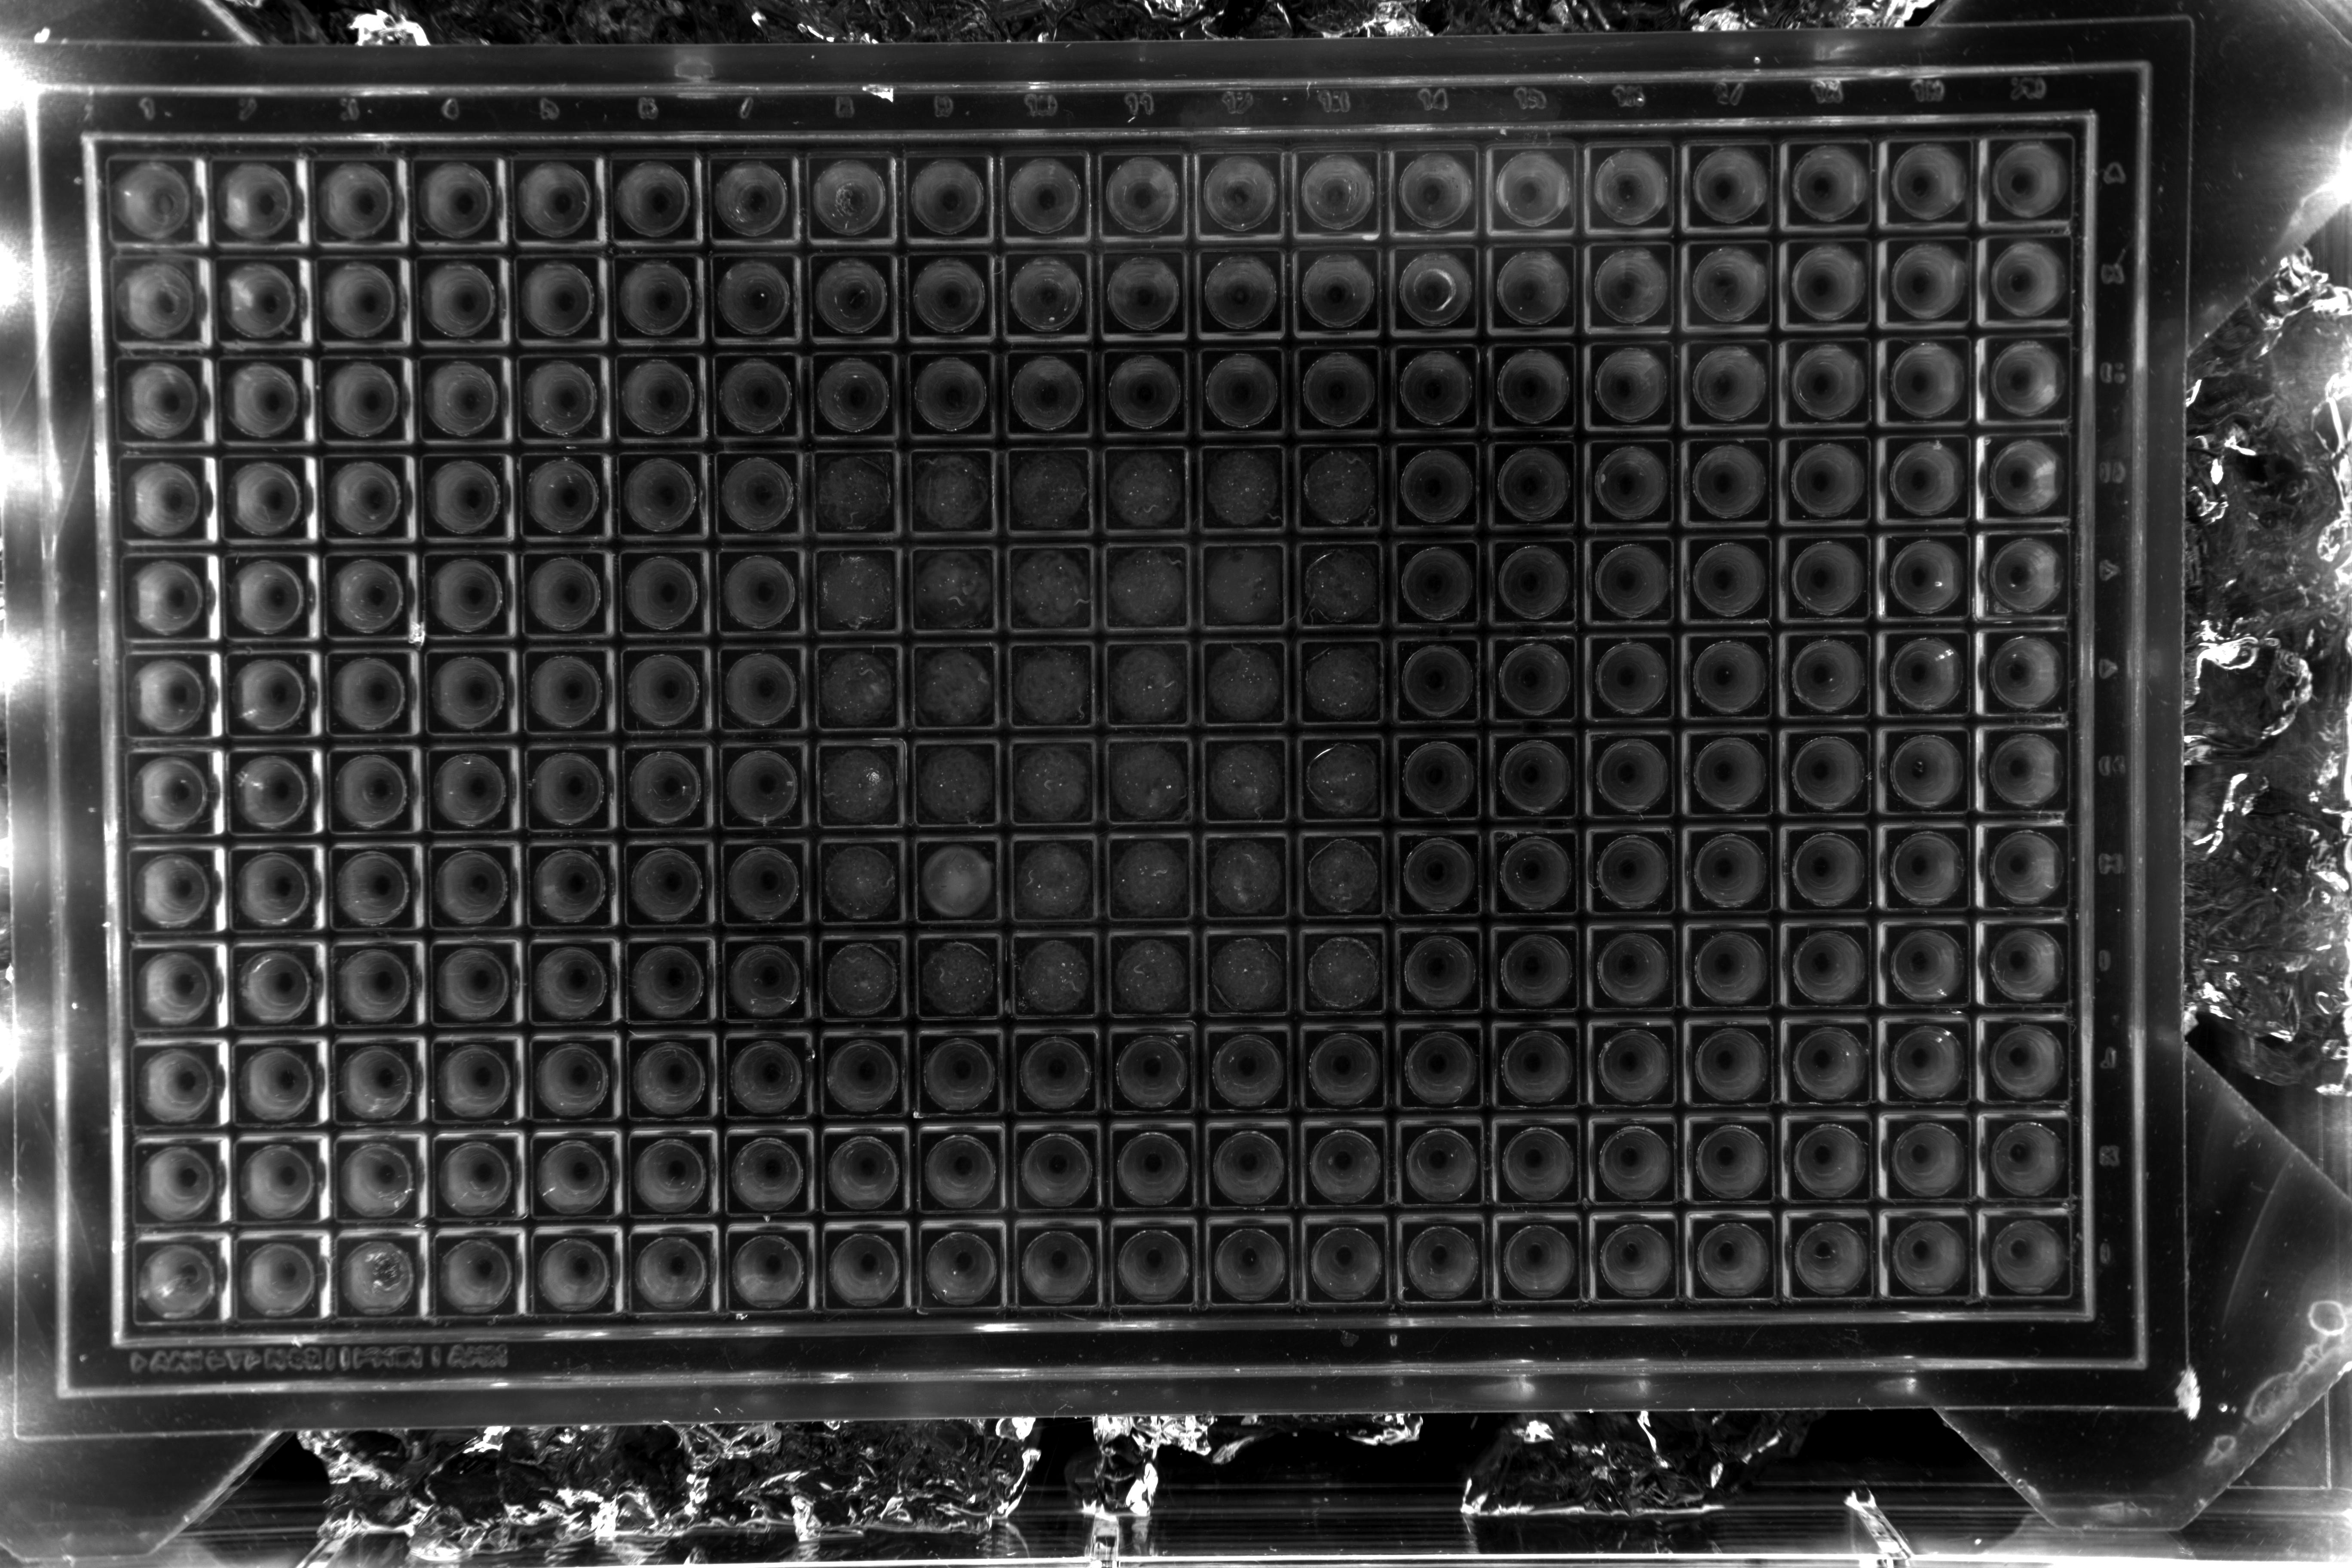WM_well: (299, 633, 388, 721), (885, 630, 975, 717), (1176, 1209, 1263, 1298), (1176, 630, 1265, 717), (1368, 1209, 1456, 1298), (203, 731, 290, 819), (588, 240, 675, 327), (980, 241, 1067, 329), (983, 1211, 1071, 1298), (1080, 920, 1167, 1008), (1272, 1113, 1360, 1200), (1274, 726, 1361, 814), (1468, 532, 1556, 619), (1470, 138, 1557, 226), (1564, 726, 1652, 814), (1759, 1211, 1846, 1298), (1760, 822, 1848, 910), (1764, 331, 1851, 418), (1860, 626, 1948, 714), (1956, 1115, 2044, 1202), (1956, 919, 2044, 1006)
